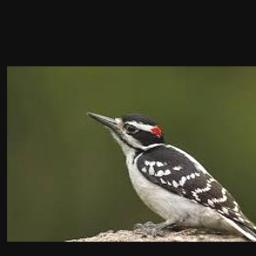Woodpecker: (87, 111, 256, 242)
